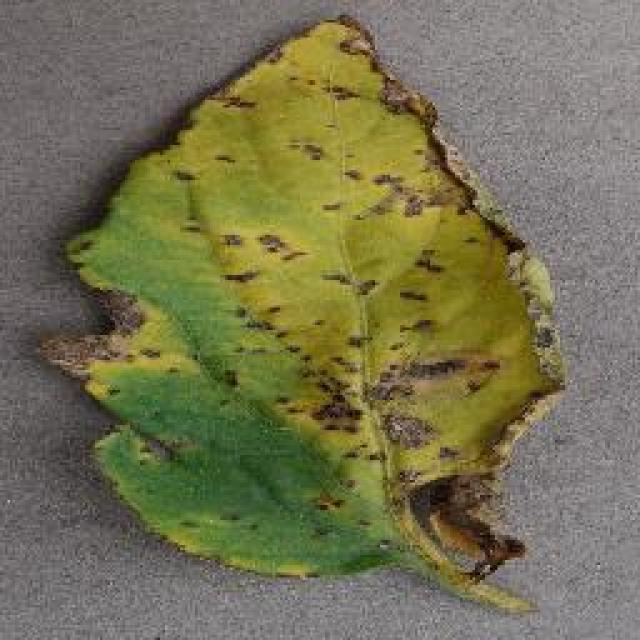Tomato bacterial spot leaf: (30, 4, 572, 624)
